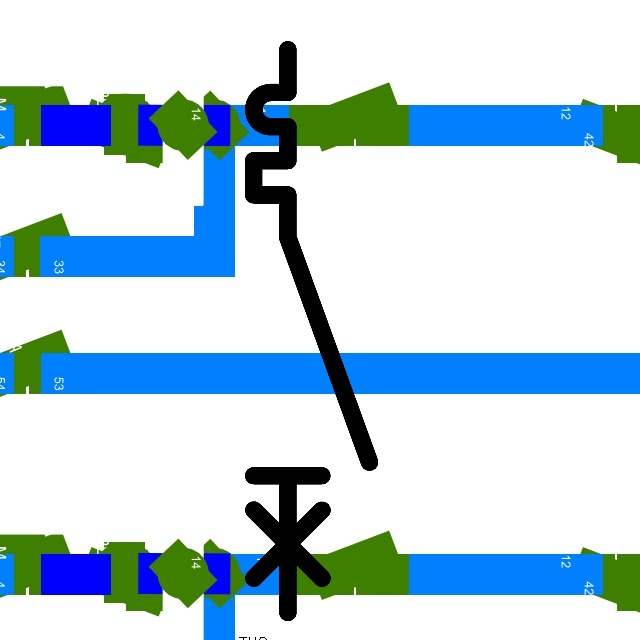interruptor_termomagnetico: (239, 35, 384, 626)
